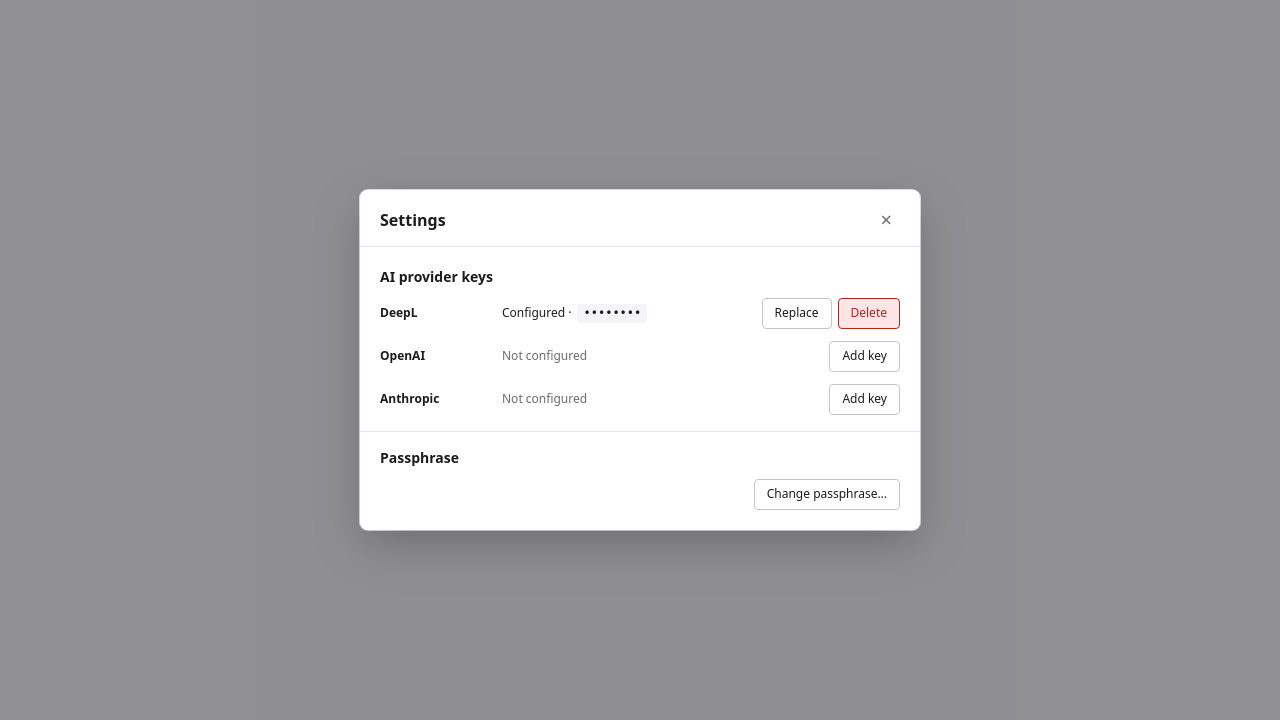
Test: SettingsModal › changes the passphrase and surfaces a success notice
Expected: the element named "DeepL: configured" is shown, [502,304,647,323]
Click the button "Change passphrase…": (827, 495) [754,479,900,510]
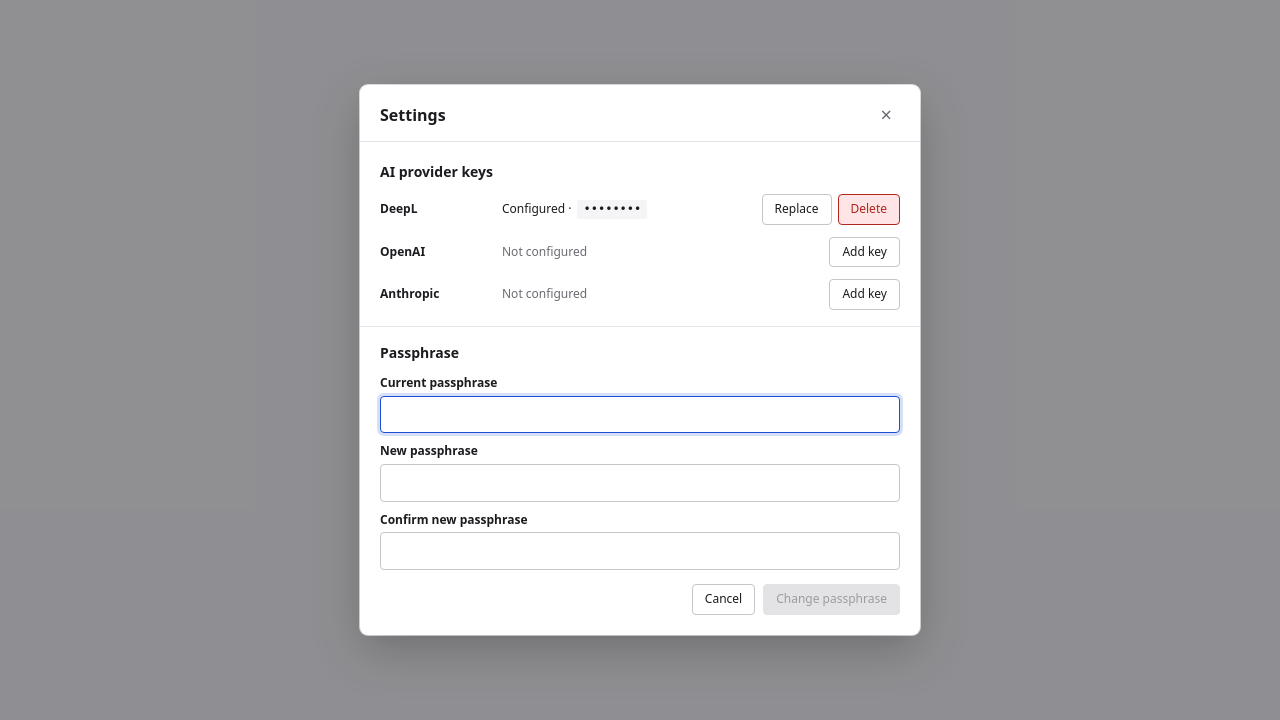
In the password field labelled "Current passphrase": (640, 414) [380,396,900,433], type "old-pp"
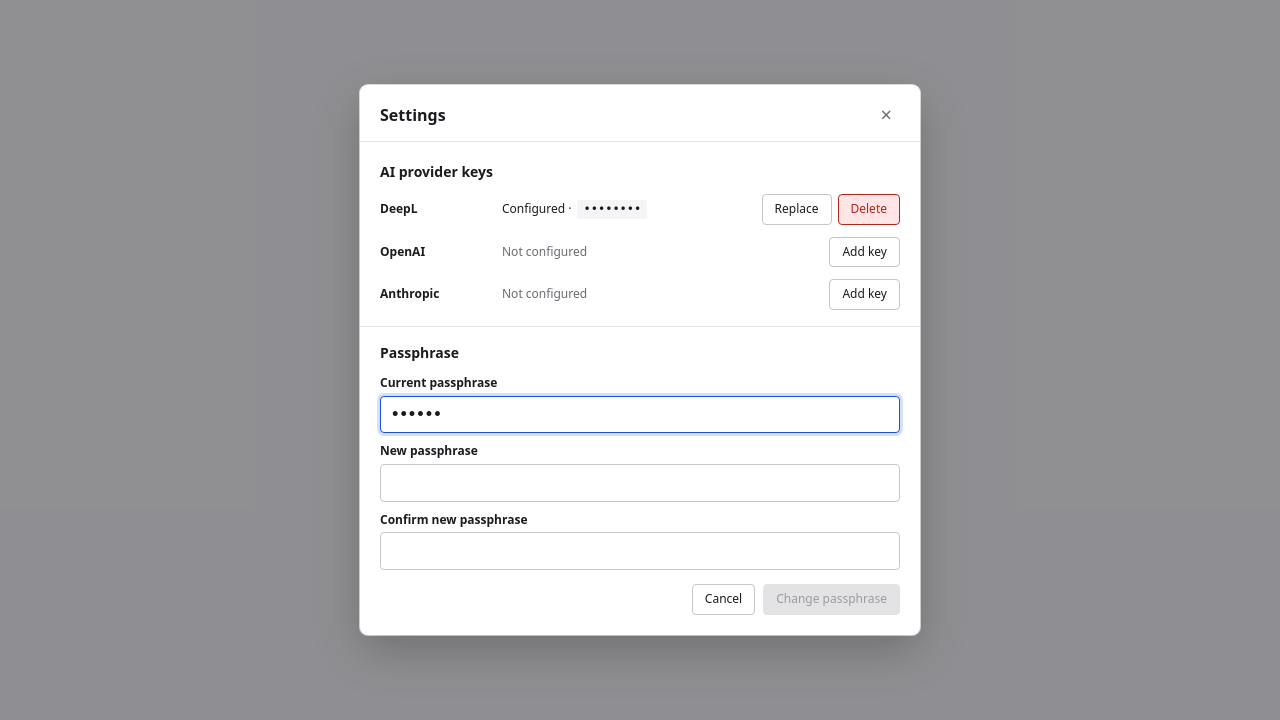
In the password field labelled "New passphrase": (640, 483) [380,464,900,502], type "new-pp"
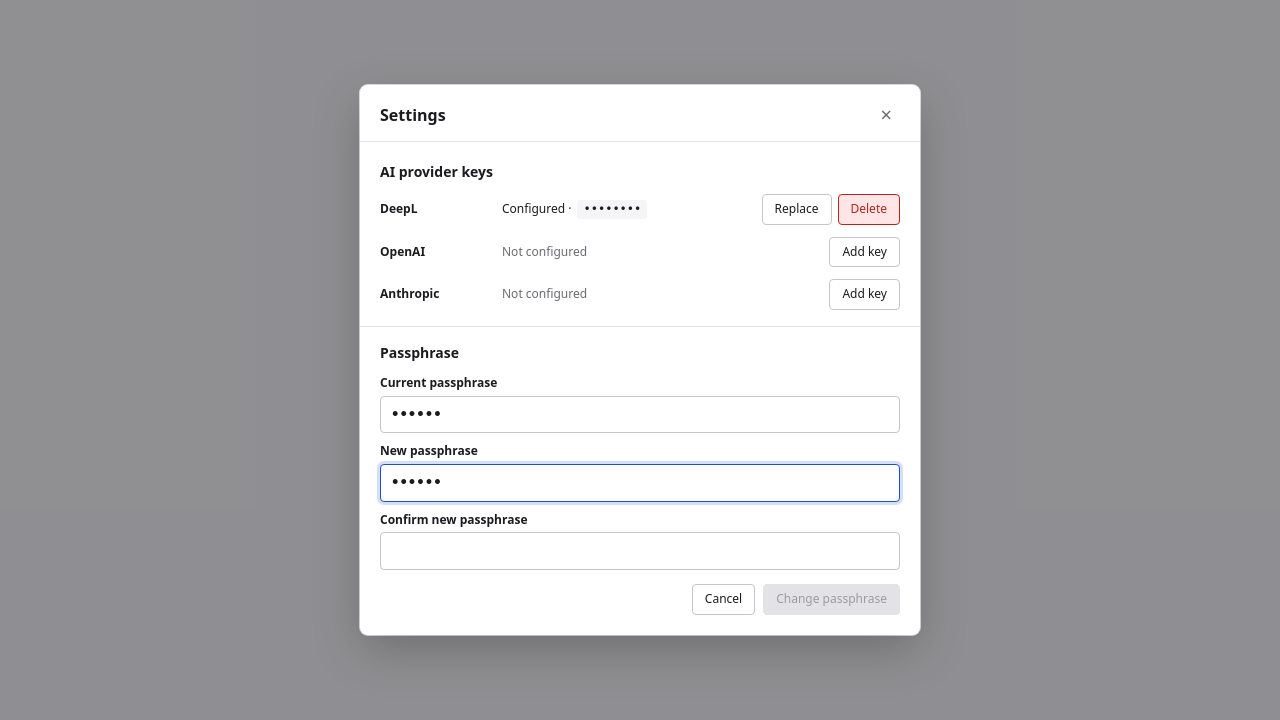
In the password field labelled "Confirm new passphrase": (640, 551) [380,532,900,570], type "new-pp"
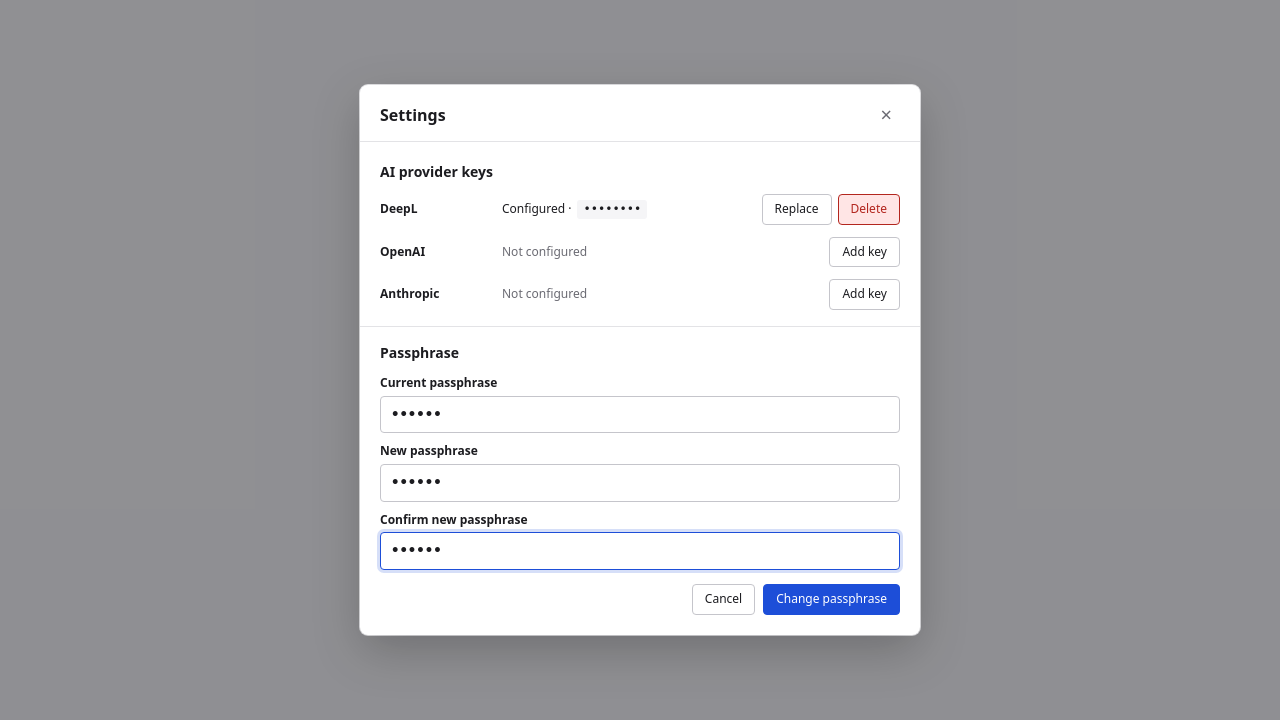
Click the button "Change passphrase": (832, 599) [763,584,900,615]
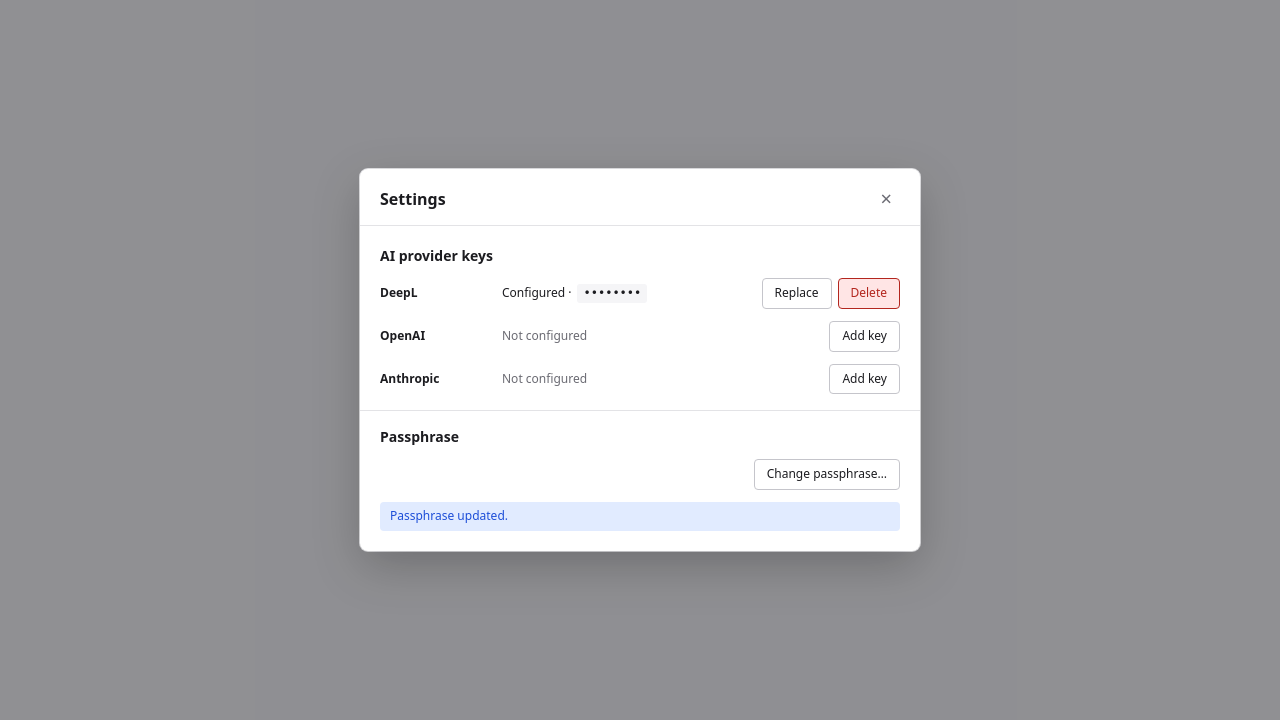
Expected: the text "Passphrase updated." is shown, [380,502,900,531]
